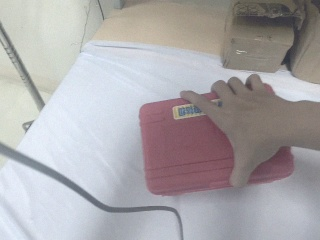box: (135, 84, 298, 196), (221, 1, 302, 72)
